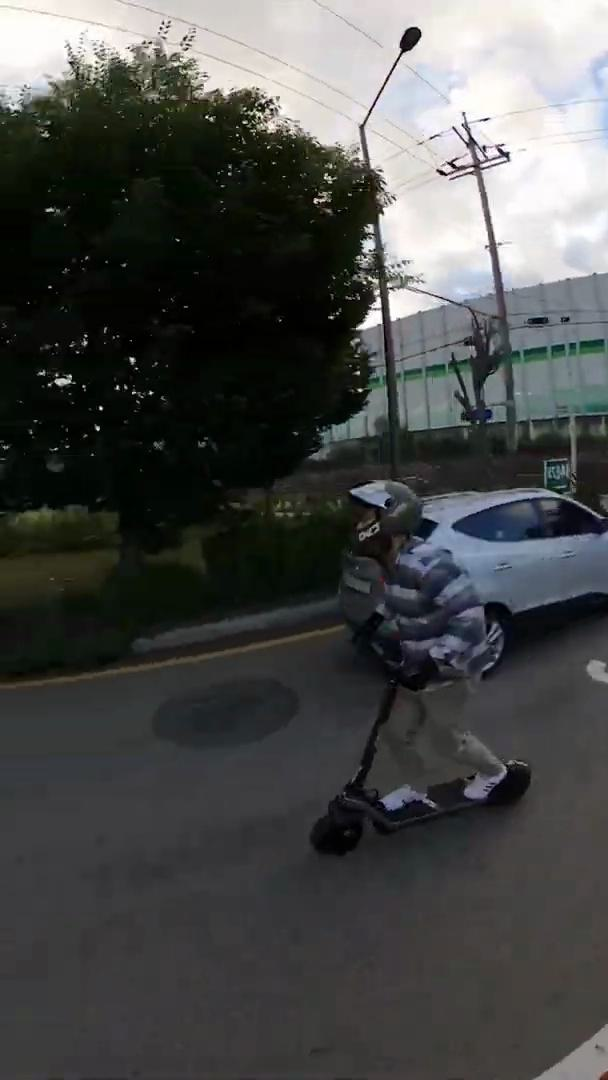helmet: (302, 469, 537, 858)
